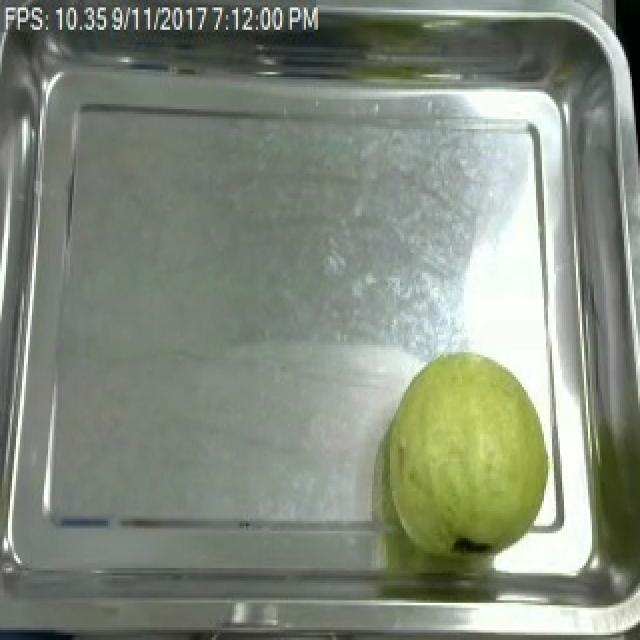Fruit: (370, 340, 566, 563)
